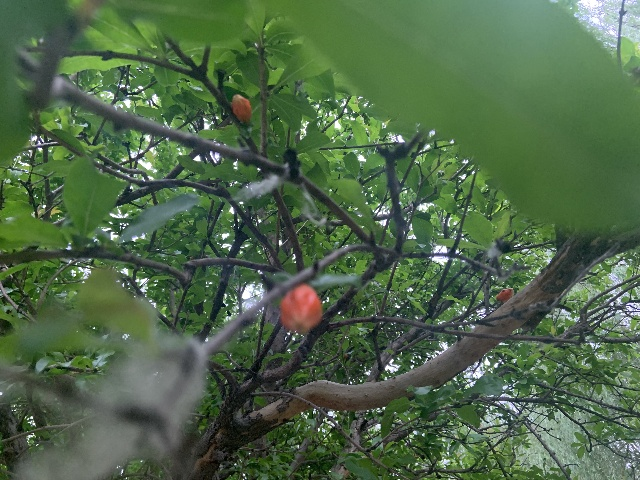bud: (279, 283, 323, 333), (231, 93, 252, 123), (496, 288, 513, 302)
